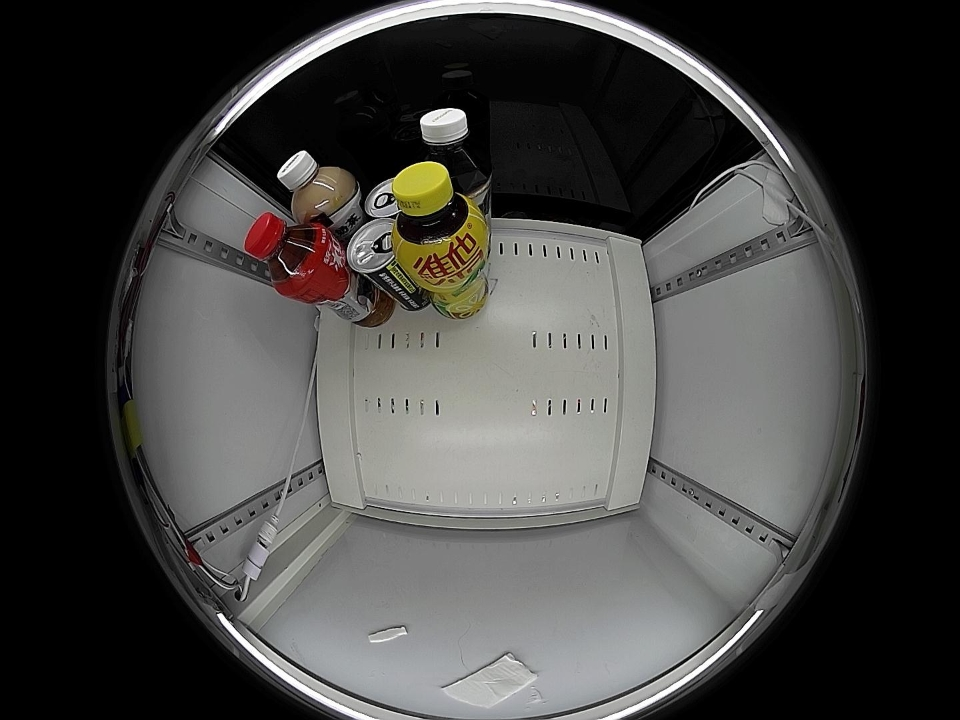binghongcha: (243, 211, 328, 296)
weitaningmeng-bottle: (392, 160, 488, 267)
wuhounaicha: (276, 150, 356, 222)
wulongcha: (416, 107, 491, 187)
yezhi: (346, 218, 401, 280), (362, 176, 400, 220)
